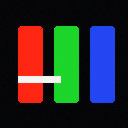3 line_h: (18, 76, 60, 82)
